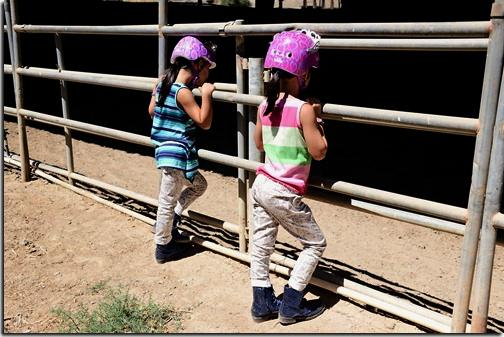With Helmet: (257, 19, 335, 92), (166, 35, 221, 91)
